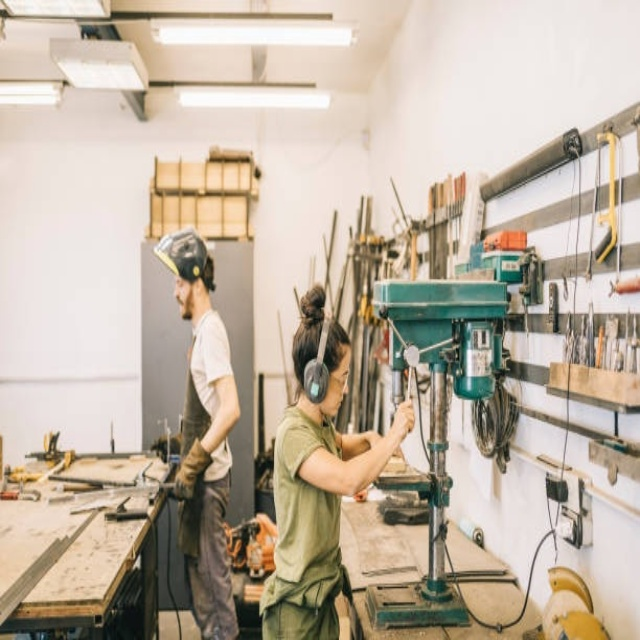Gafas: (323, 370, 352, 389)
Guantes: (173, 436, 212, 500)
Sin_guantes: (392, 399, 414, 443)
Sin_mascara: (328, 395, 346, 416), (173, 292, 189, 314)
